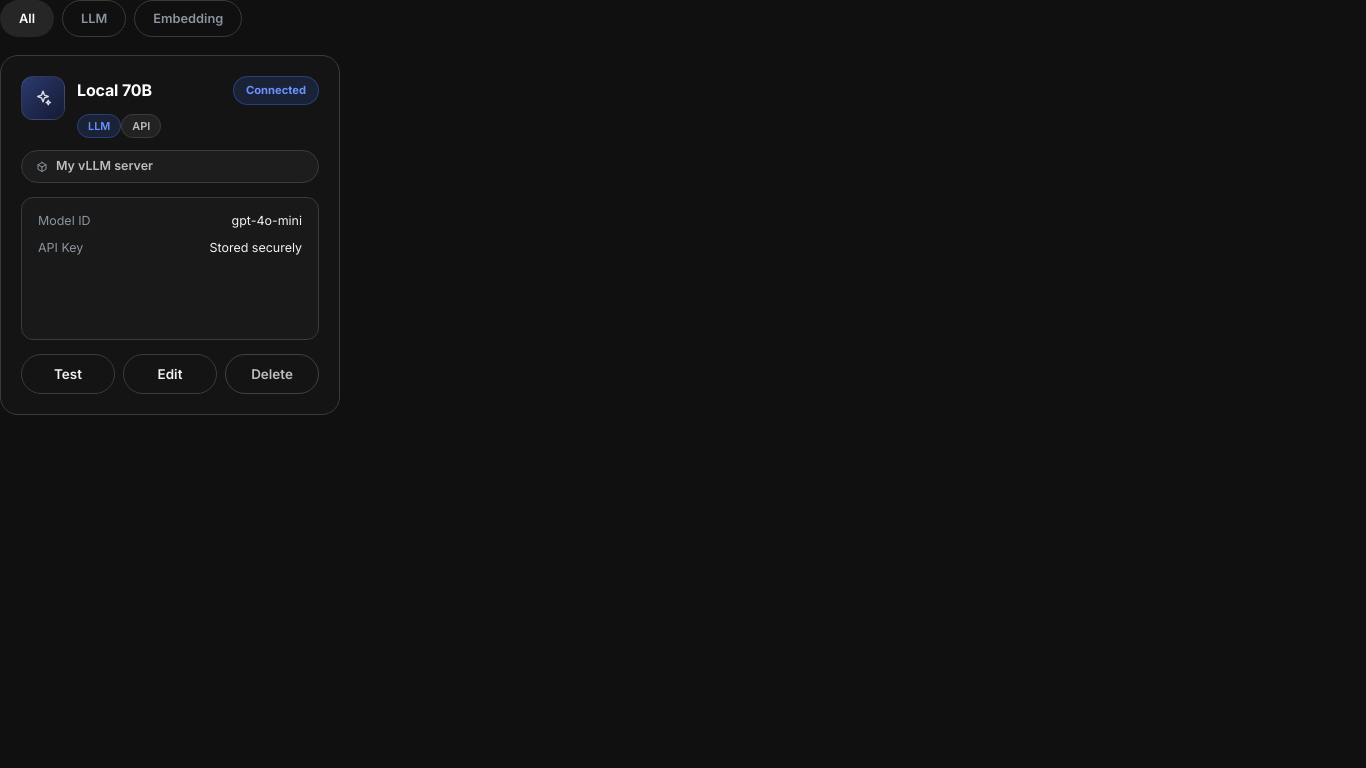
Test: ModelsTab › shows a custom provider name instead of the generic Custom label
expect the text "My vLLM server" is shown: met, box [56,157,153,176]
Step 1. Click the button "Edit" → point(170, 374), box [123,354,217,394]
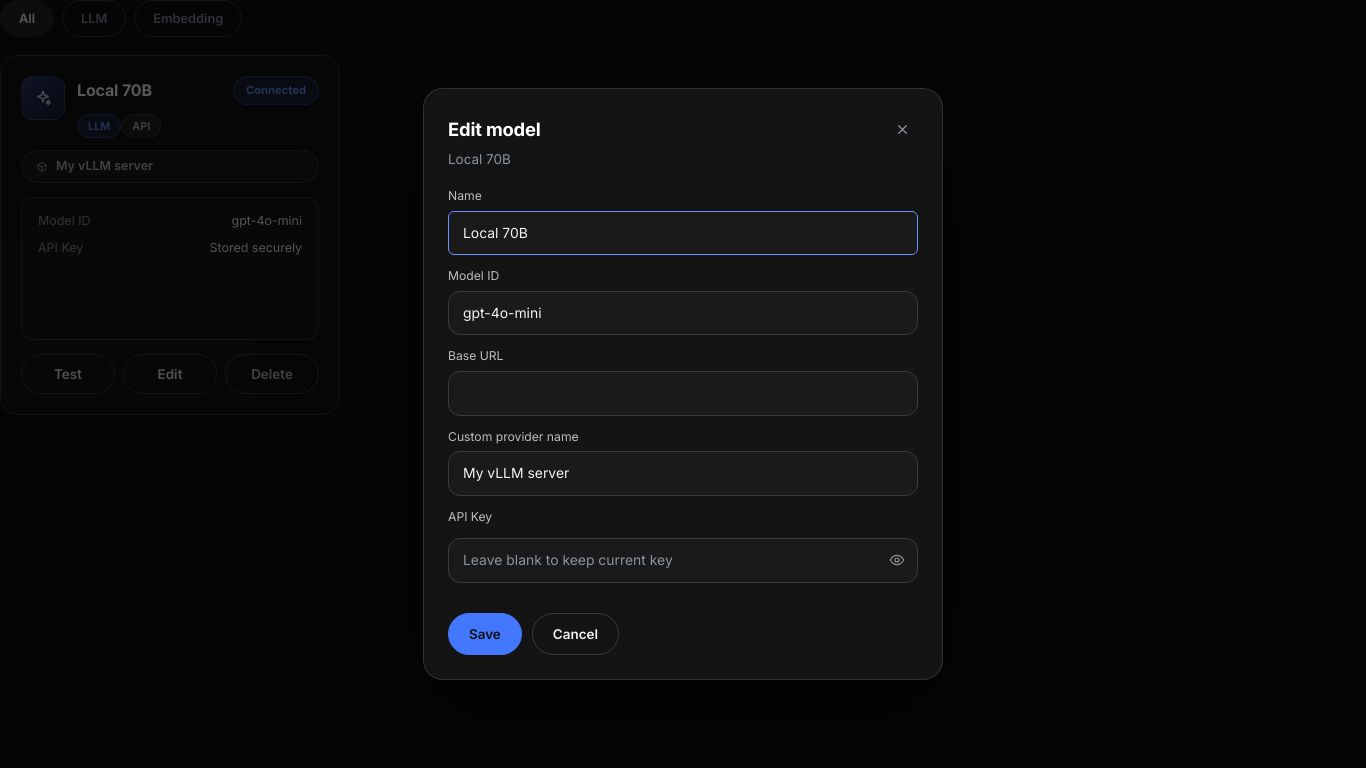
expect the field labelled "Custom provider name" holds "My vLLM server": met, box [448,451,918,496]
